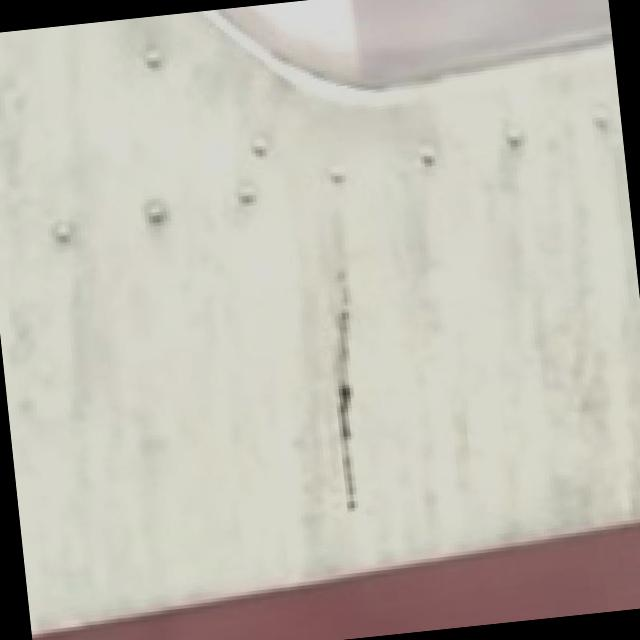crack: (273, 246, 412, 510)
